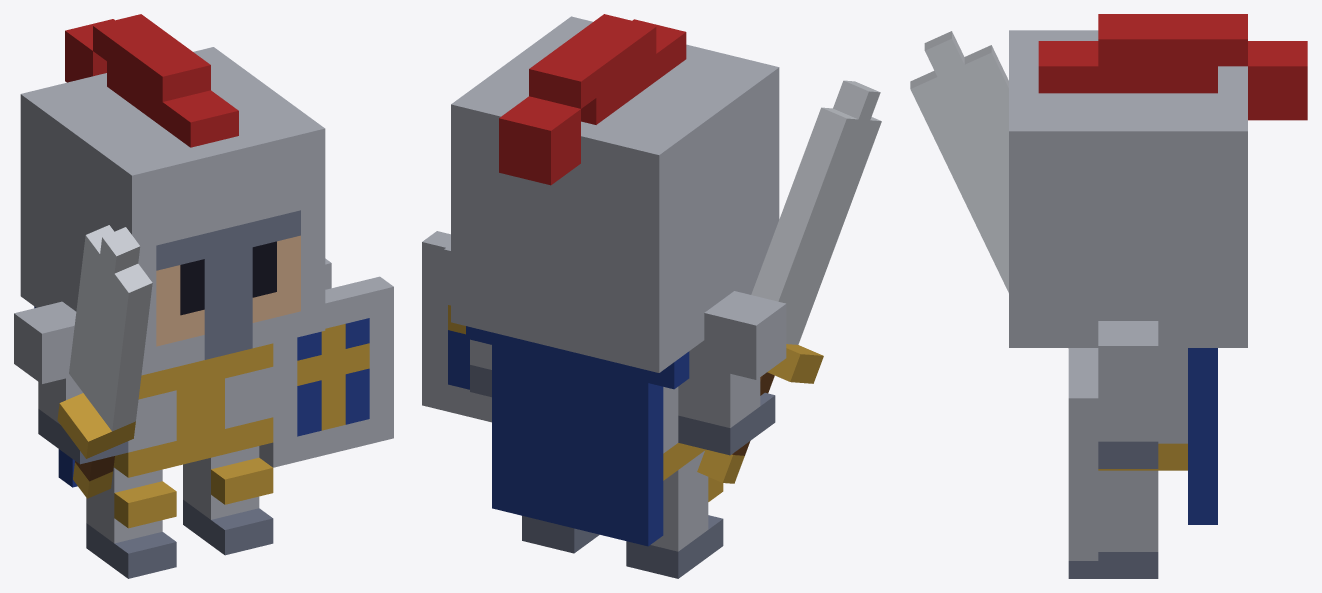
File: mt-voxel.glb
3 views of the same model, side by side, from view 1: azimuth 30°, elevation 25°; view 2: azimuth 150°, elevation 25°; view 3: azimuth 270°, elevation 25° (orthographic). The views are drawn at different scales.
Visible parts, largest first — view 1: head, arm_L, weapon, torso, leg_L, leg_R, arm_R, hips, cape; view 2: head, cape, weapon, arm_R, arm_L, leg_R, leg_L, torso, hips; view 3: head, arm_L, weapon, leg_L, cape, torso, hips.
Part boxes in pixels (x1=…): head: x1=20, y1=14, x2=325, y2=375; arm_L: x1=259, y1=258, x2=393, y2=467; weapon: x1=57, y1=225, x2=152, y2=498; torso: x1=128, y1=343, x2=273, y2=452; leg_L: x1=183, y1=446, x2=273, y2=555; leg_R: x1=86, y1=467, x2=176, y2=578; arm_R: x1=14, y1=301, x2=128, y2=464; hips: x1=113, y1=417, x2=273, y2=477; cape: x1=34, y1=306, x2=77, y2=487; head: x1=451, y1=14, x2=779, y2=372; cape: x1=466, y1=326, x2=689, y2=546; weapon: x1=697, y1=80, x2=881, y2=483; arm_R: x1=678, y1=291, x2=786, y2=455; arm_L: x1=422, y1=231, x2=491, y2=422; leg_R: x1=626, y1=451, x2=723, y2=578; leg_L: x1=522, y1=516, x2=599, y2=553; torso: x1=663, y1=387, x2=678, y2=453; hips: x1=663, y1=443, x2=705, y2=480; head: x1=1009, y1=14, x2=1307, y2=347; arm_L: x1=1068, y1=321, x2=1158, y2=560; weapon: x1=910, y1=31, x2=1008, y2=292; leg_L: x1=1068, y1=470, x2=1158, y2=578; cape: x1=1188, y1=348, x2=1217, y2=524; torso: x1=1158, y1=348, x2=1187, y2=443; hips: x1=1098, y1=443, x2=1187, y2=470.
Bounding box in the file's own units: 3.58 × 4.75 × 3.32.
